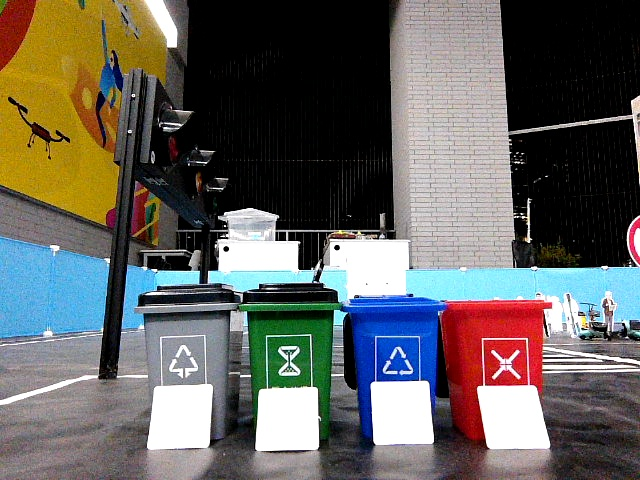blue_open: (352, 294, 434, 377)
green_close: (248, 282, 331, 382)
grey_close: (143, 284, 229, 382)
red_open: (451, 299, 537, 381)
